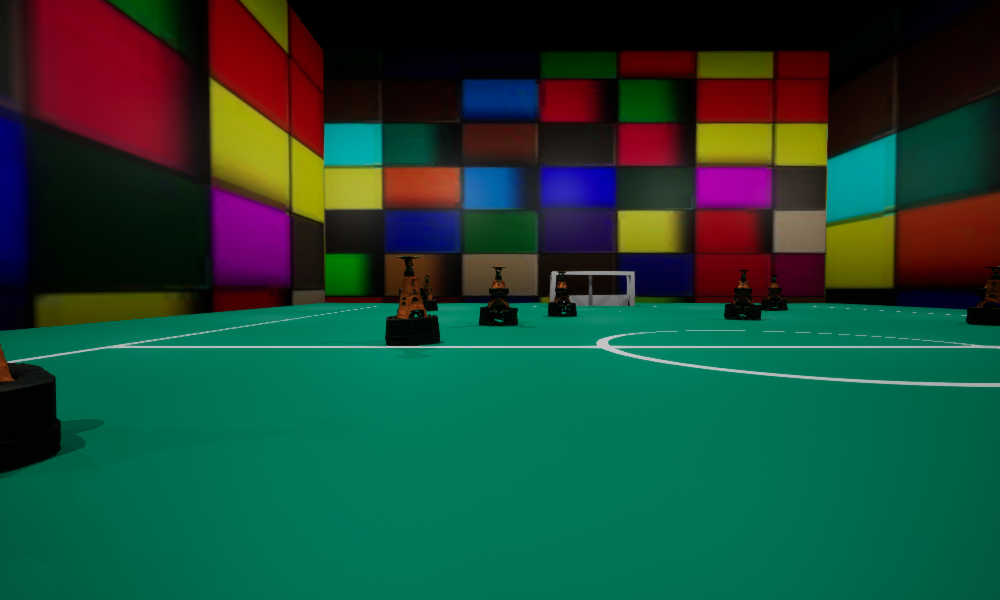o: (0, 344, 60, 472), (385, 256, 439, 345), (479, 266, 517, 325), (966, 266, 999, 325), (724, 270, 760, 319), (548, 271, 576, 316), (761, 275, 787, 310), (420, 274, 437, 310)
